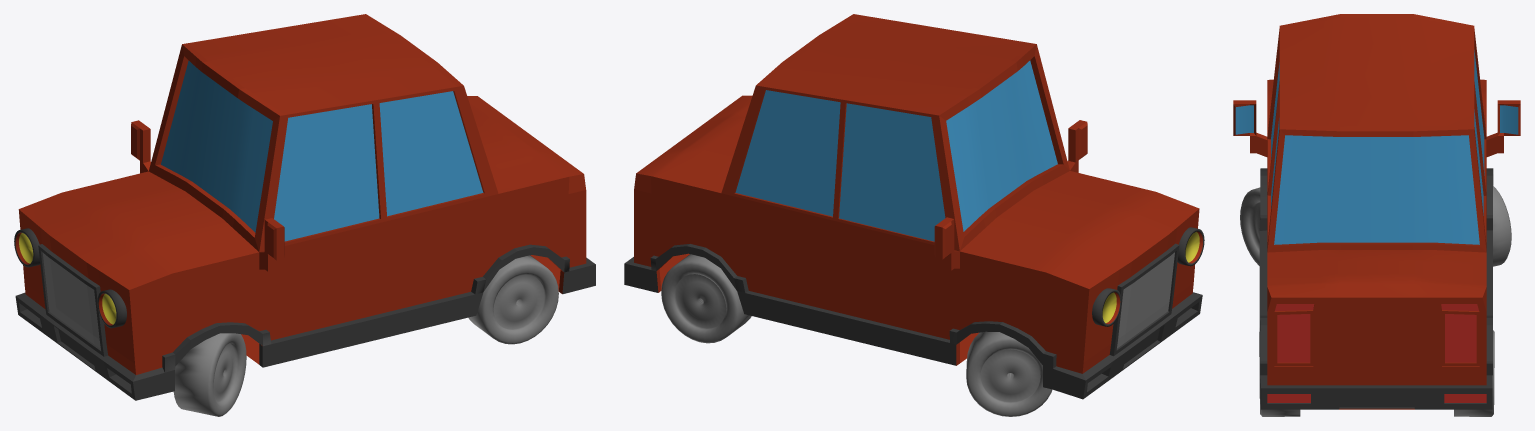
File: carro rojo.fbx
The picture shows the model from 3 angles, left to right: view 1: azimuth 30°, elevation 25°; view 2: azimuth 150°, elevation 25°; view 3: azimuth 270°, elevation 25°; orthographic projection.
Parts seen in each view (by area): view 1: Cube, Cylinder_001, Cylinder; view 2: Cube, Cylinder_005, Cylinder_002; view 3: Cube, Cylinder, Cylinder_005, Cylinder_002, Cylinder_001.
Boxes of the visible parts, <box> form: Cube: <box>14,14,595,400</box>; Cylinder_001: <box>468,255,558,344</box>; Cylinder: <box>173,333,246,416</box>; Cube: <box>624,14,1204,399</box>; Cylinder_005: <box>966,331,1052,416</box>; Cylinder_002: <box>661,254,751,343</box>; Cube: <box>1233,14,1520,409</box>; Cylinder: <box>1240,187,1260,265</box>; Cylinder_005: <box>1493,186,1511,266</box>; Cylinder_002: <box>1454,330,1494,416</box>; Cylinder_001: <box>1259,331,1300,416</box>.
Size of the model in its own units: 597 by 344 by 318.
